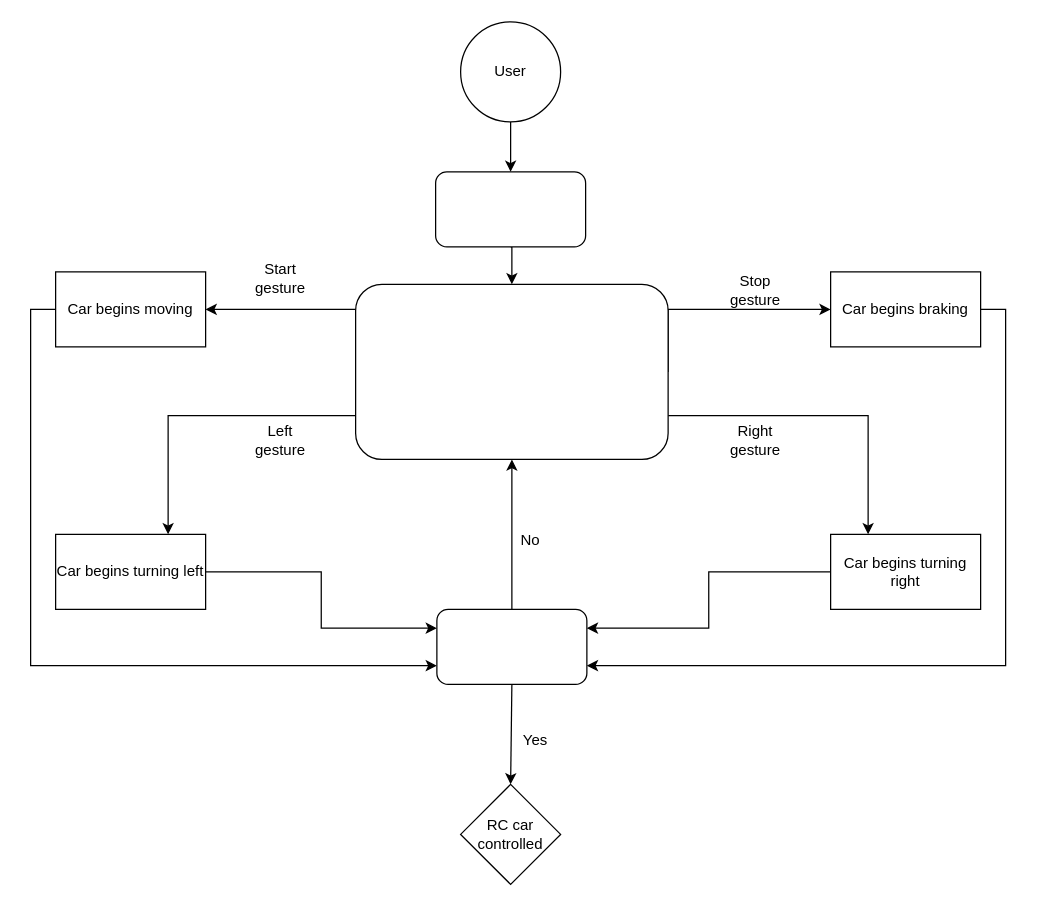
Some shapes in this 1038 by 906 pixel diagram are drawn without their labels. The box of each missing label's shape, as (x1, y1, x2, y2) in pixels:
Goal destination reached?: (436, 608, 587, 684)
Make supported hand gesture: (354, 283, 668, 459)
Put on control gloves: (434, 171, 586, 247)
